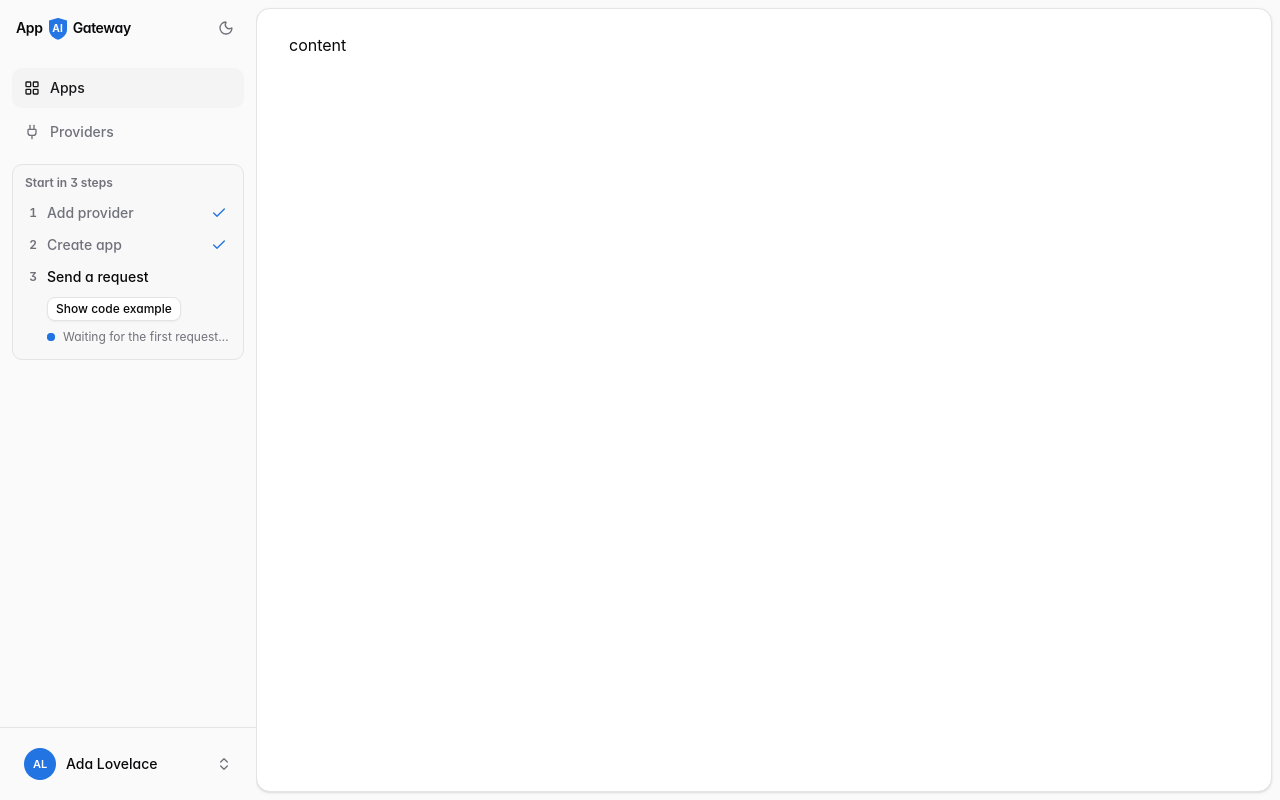
Test: the first-run checklist › points the example at the deployment's API host when one is configured
The width and height of the screenshot is (1280, 800).
Click the button "Show code example": (114, 309) [47,297,181,321]
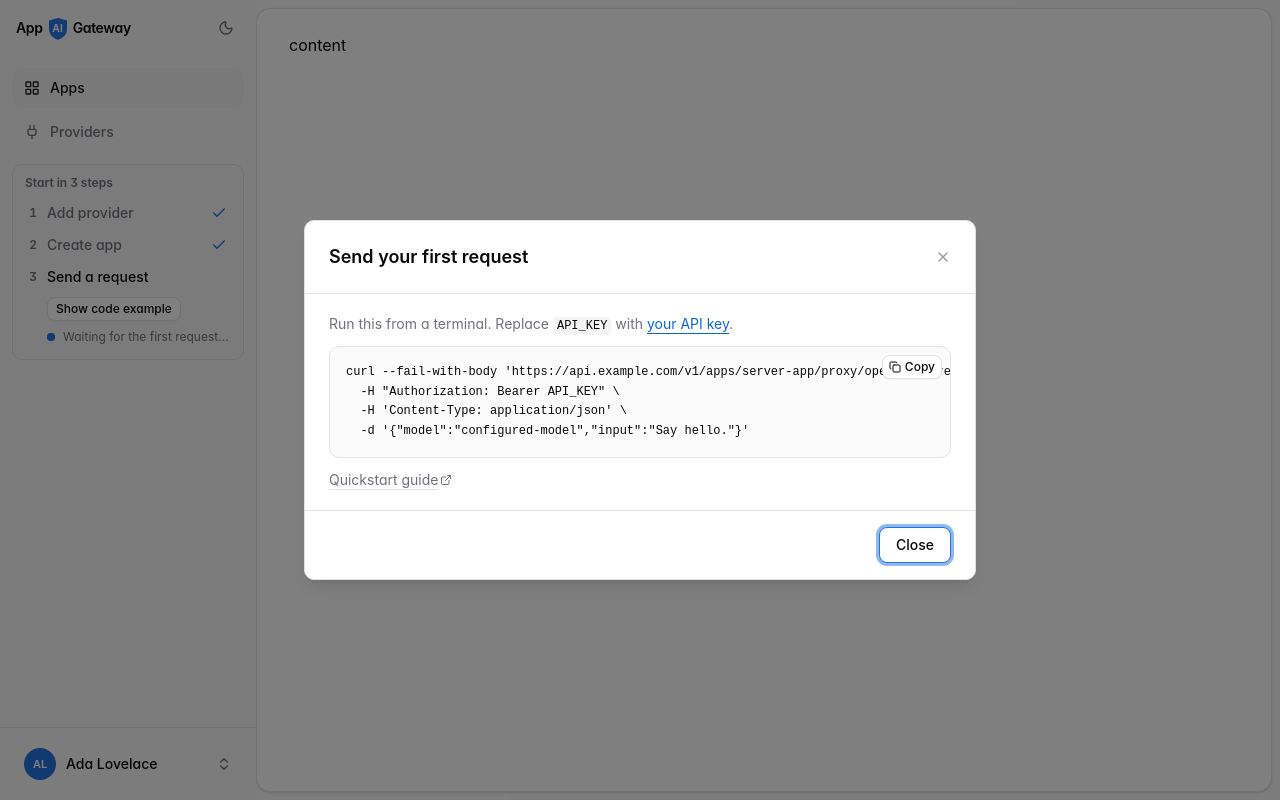
Expected: the text "https://api.example.com/v1/apps/server-app/proxy/openai/" is shown, [346,365,950,438]
